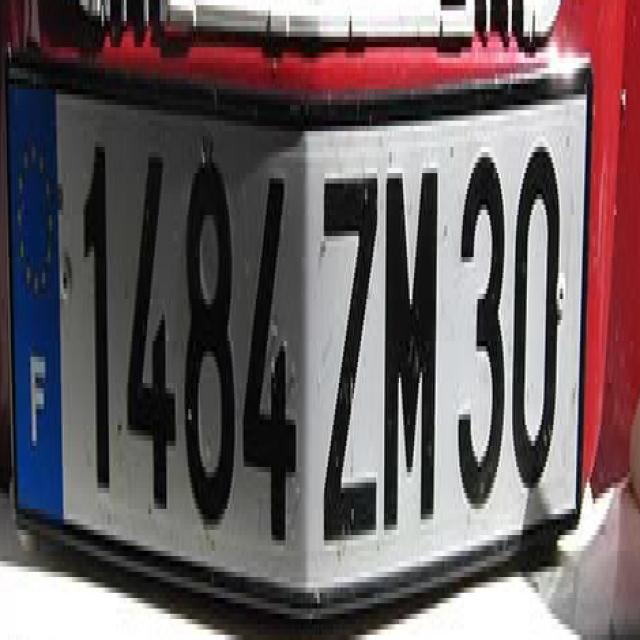EU: (3, 57, 609, 635)
France: (10, 77, 62, 530)
